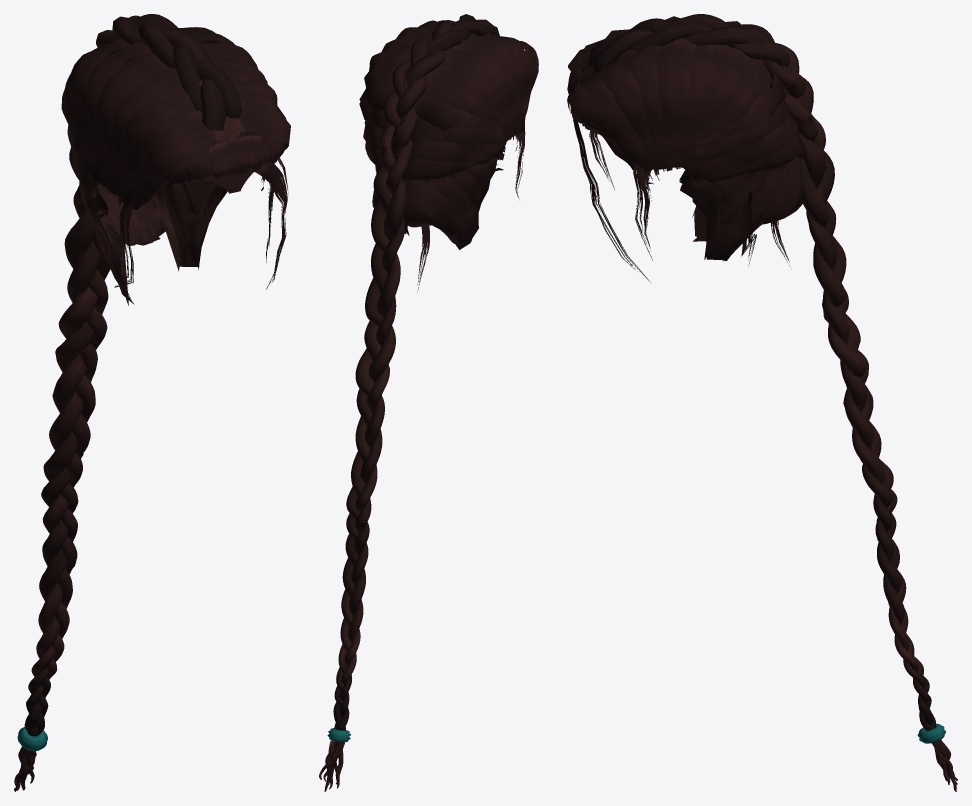
File: mh_elvs_lara_hair.glb
3 renders of one model, left to right at view 1: azimuth 30°, elevation 25°; view 2: azimuth 150°, elevation 25°; view 3: azimuth 270°, elevation 25°, orthographic. The views are drawn at different scales.
Visible parts, largest first — view 1: mh_elvs_lara_hair; view 2: mh_elvs_lara_hair; view 3: mh_elvs_lara_hair.
Part boxes in pixels (x1,y1,x2,y2): mh_elvs_lara_hair: [14, 14, 290, 791]; mh_elvs_lara_hair: [319, 14, 538, 791]; mh_elvs_lara_hair: [567, 14, 957, 791].
Size of the model in its own units: 0.1741 by 0.8832 by 0.4057.
1 material, 1 textured.
